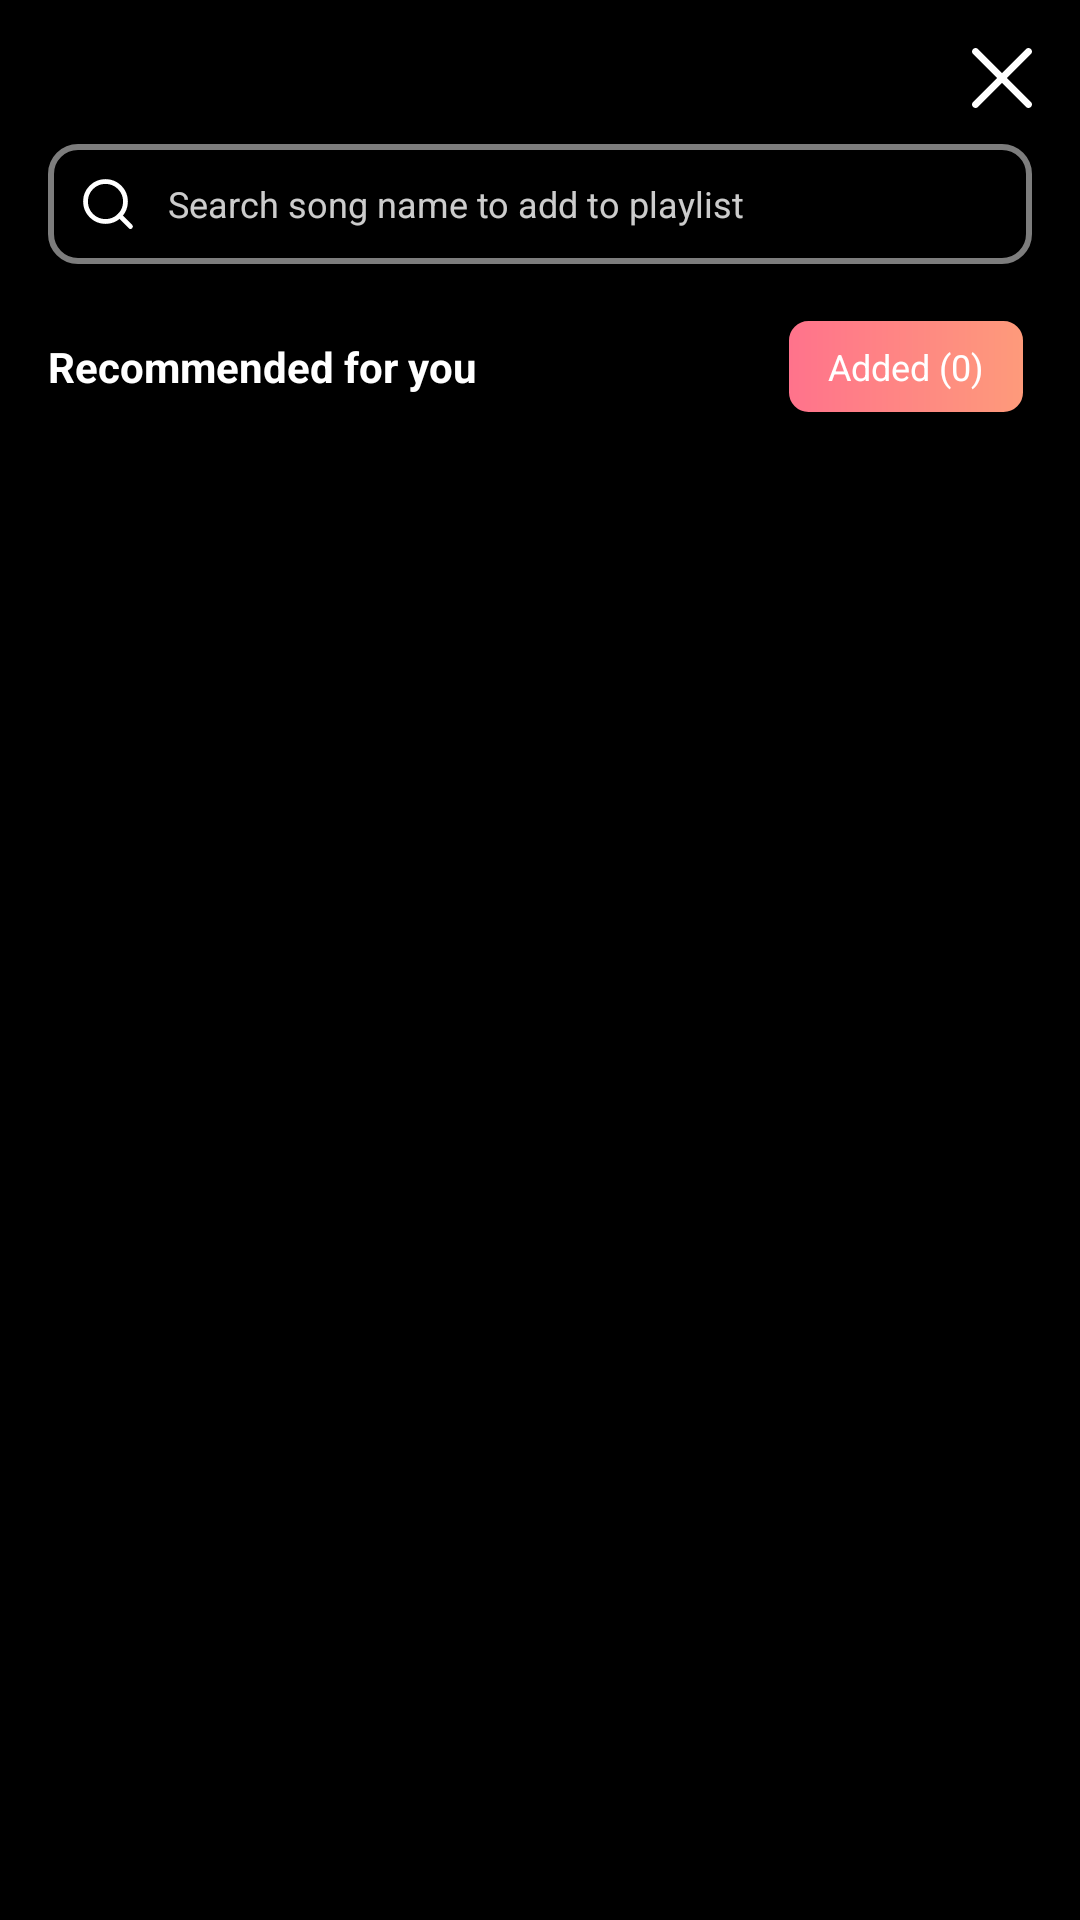

Where icons sit on this 1080 × 1920 app screen, as (x1, y1, x2, y2):
clear song: (972, 48, 1032, 108)
